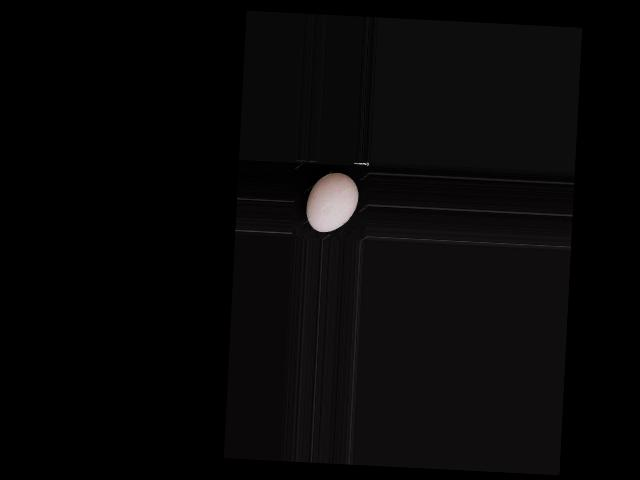egg: (304, 171, 359, 233)
